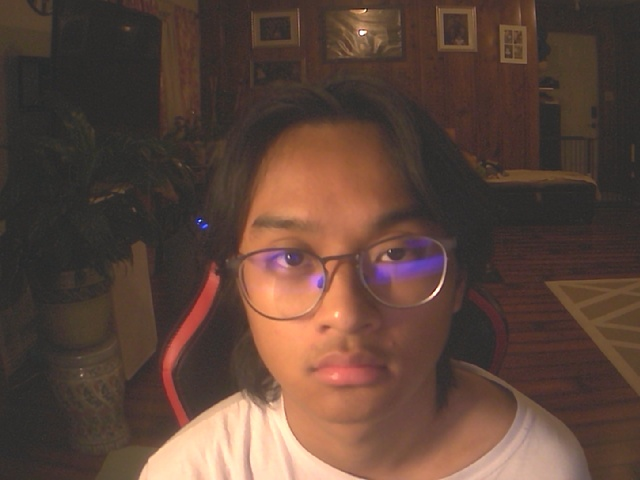neutral: (208, 71, 488, 420)
